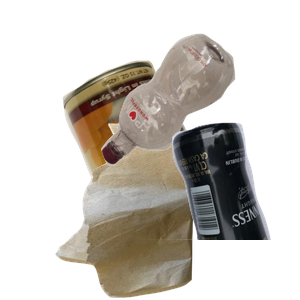glass: (106, 120, 300, 300)
metal: (60, 58, 300, 238)
plastic: (99, 31, 300, 189)
trash: (53, 121, 239, 300)
